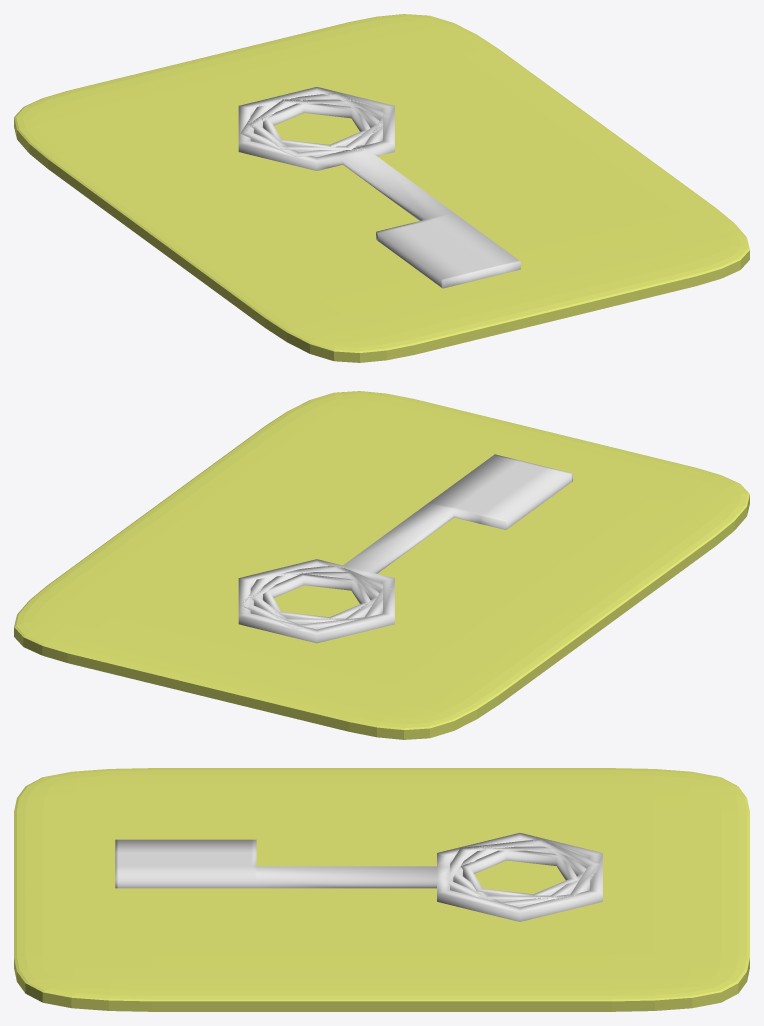
File: card.fbx
The picture shows the model from 3 angles, top to bottom: view 1: azimuth 30°, elevation 25°; view 2: azimuth 150°, elevation 25°; view 3: azimuth 270°, elevation 25°; orthographic projection. The views are drawn at different scales.
Parts seen in each view (by area): view 1: card; view 2: card; view 3: card.
Part boxes in pixels (box(x1,y1,x2,y2)): card: box(14, 14, 749, 362); card: box(14, 391, 749, 739); card: box(14, 768, 749, 1011).
Size of the model in its own units: 400 by 15.1 by 300.
